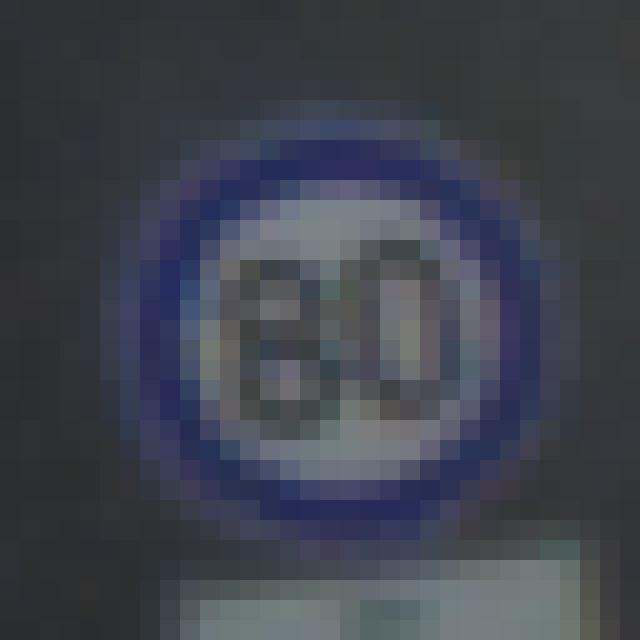SPEED-LIMIT-80: (113, 125, 537, 518)
